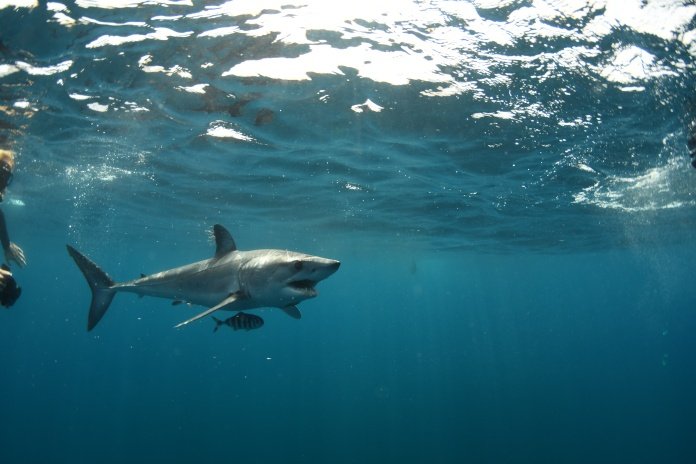Mako: (64, 214, 355, 355)
